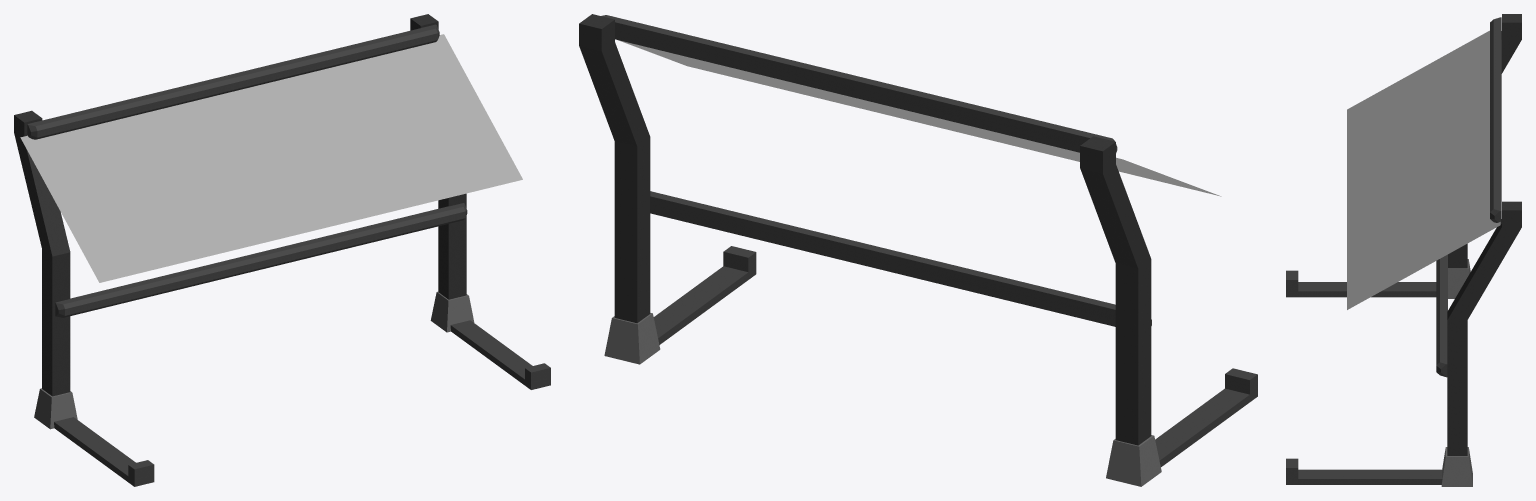
Rendered from ControlPanel.fbx.
3 views of the same model, side by side, from view 1: azimuth 30°, elevation 25°; view 2: azimuth 150°, elevation 25°; view 3: azimuth 270°, elevation 25° (orthographic). The views are drawn at different scales.
Visible parts, largest first — view 1: Room_ControlPanel2; view 2: Room_ControlPanel2; view 3: Room_ControlPanel2.
Part boxes in pixels (bbox=[...]): Room_ControlPanel2: bbox=[14, 14, 550, 486]; Room_ControlPanel2: bbox=[579, 14, 1257, 486]; Room_ControlPanel2: bbox=[1286, 14, 1521, 486].
Bounding box in the file's own units: 201 × 128 × 99.79.
2 materials, 1 textured.
